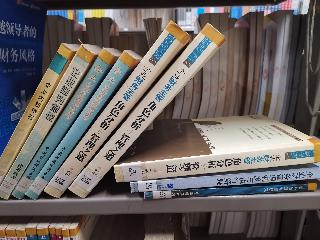book-spine: (36, 18, 192, 200), (65, 22, 224, 200), (5, 47, 116, 201), (22, 49, 135, 200), (0, 43, 97, 202), (0, 41, 78, 186), (111, 139, 320, 183), (128, 164, 320, 195), (143, 181, 317, 201)
